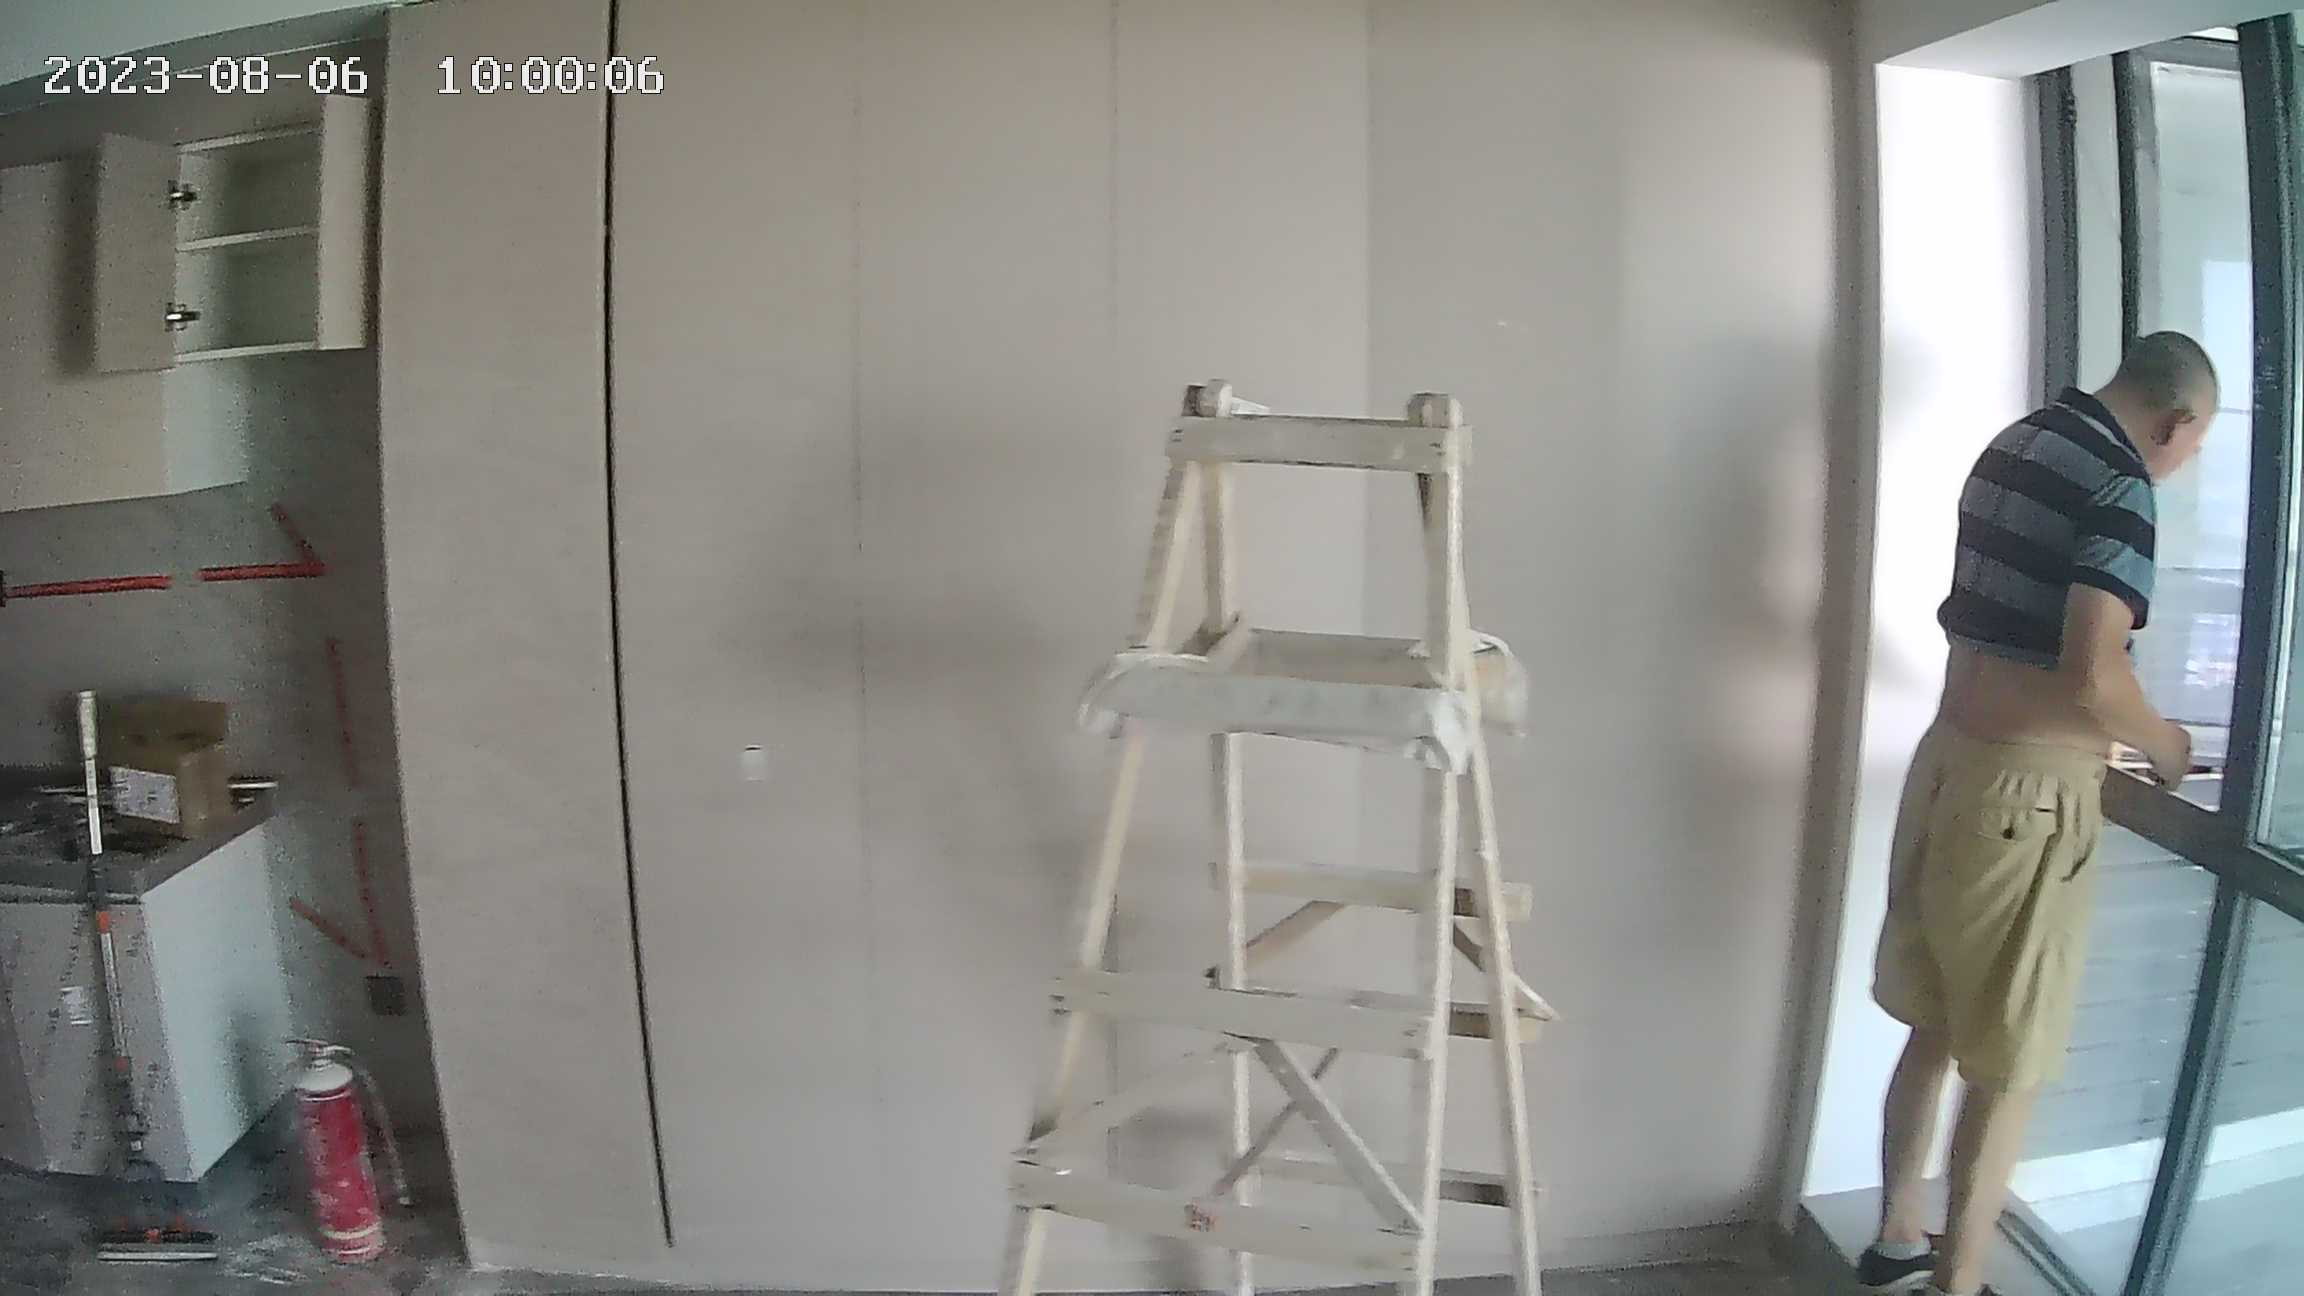people: (1841, 329, 2217, 1292)
window: (2013, 65, 2299, 1296)
